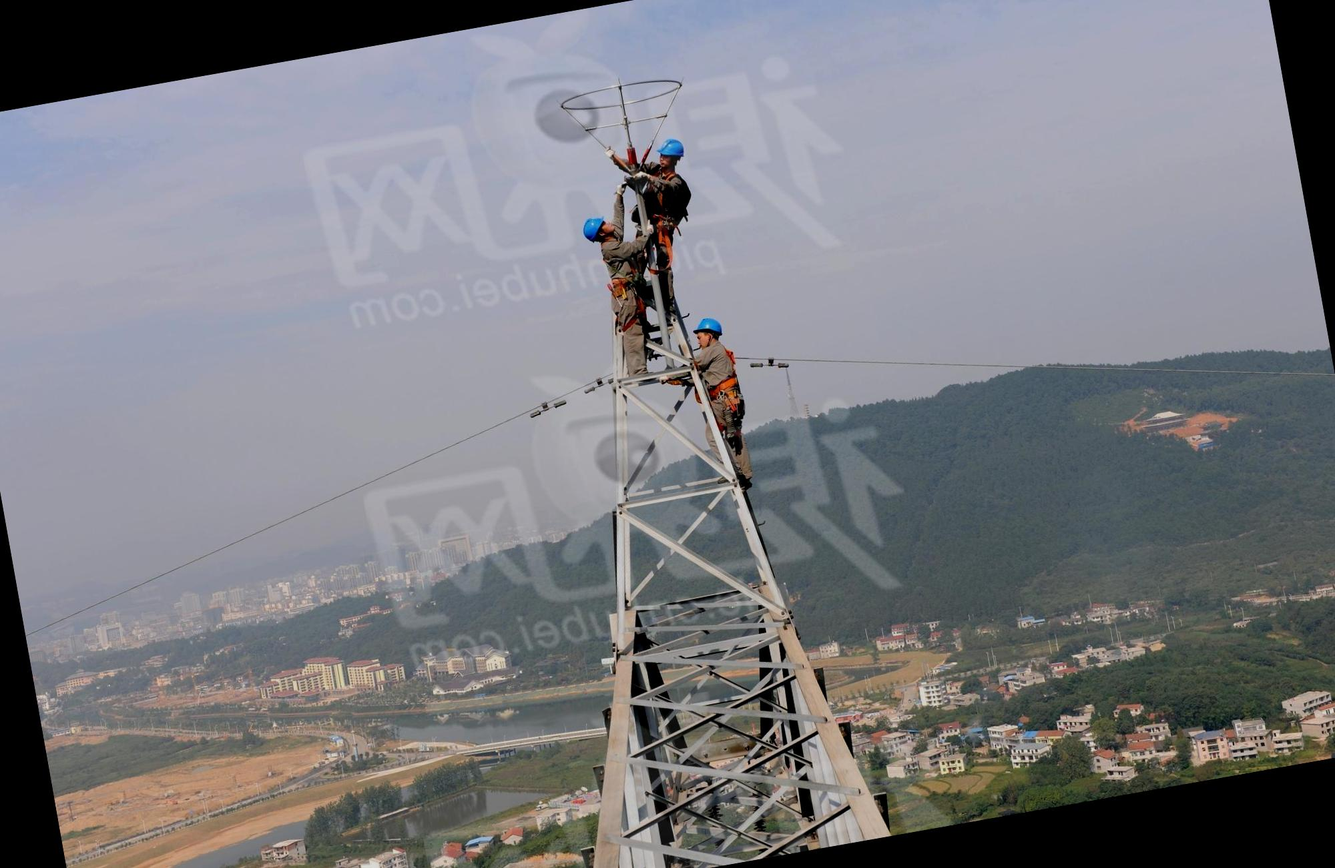helmet: (687, 313, 729, 348), (572, 209, 609, 246), (654, 134, 692, 164)
person: (617, 130, 720, 308), (575, 204, 664, 390), (682, 305, 767, 492)
